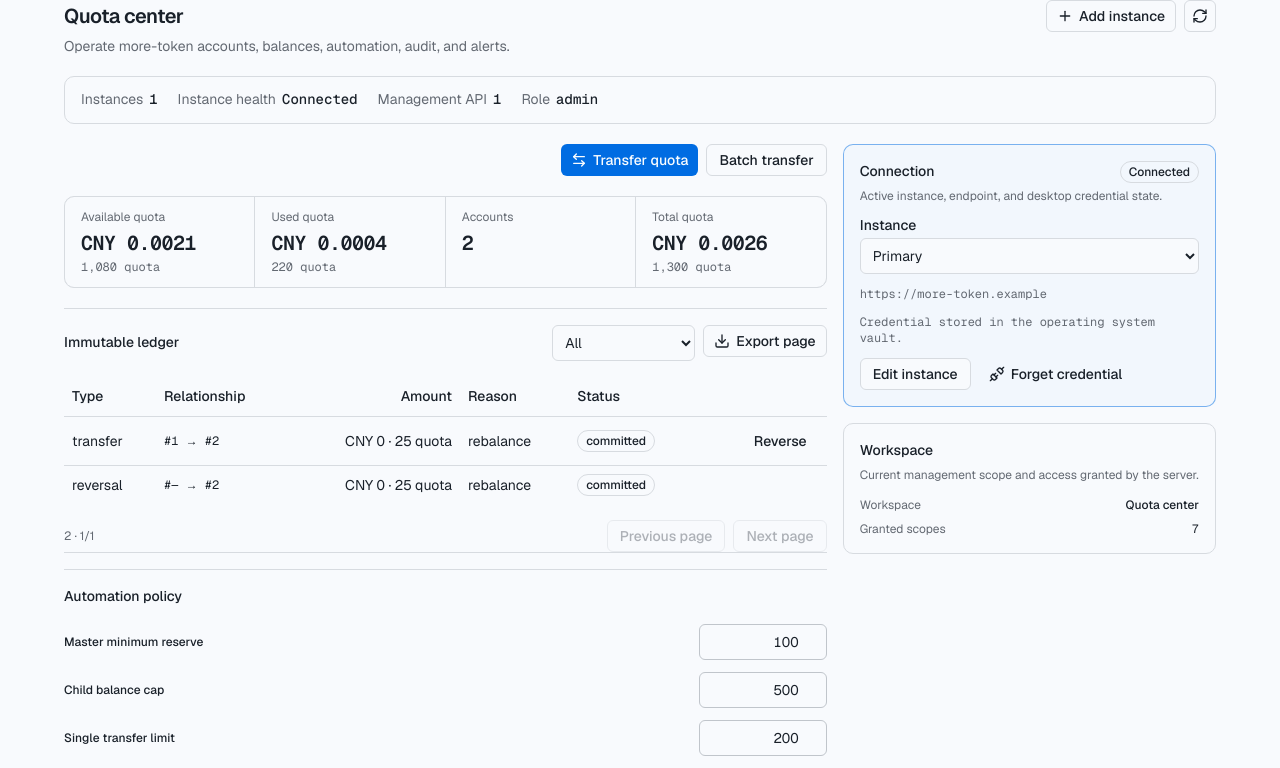
it: ledger reversal › lets the row cancel a waiting approval without reporting a failure
The width and height of the screenshot is (1280, 768).
Check: the heading "Immutable ledger" is shown, box left=64, top=332, right=179, bottom=354
Step 1. Click the button "Reverse" → (780, 441), box left=742, top=425, right=819, bottom=457
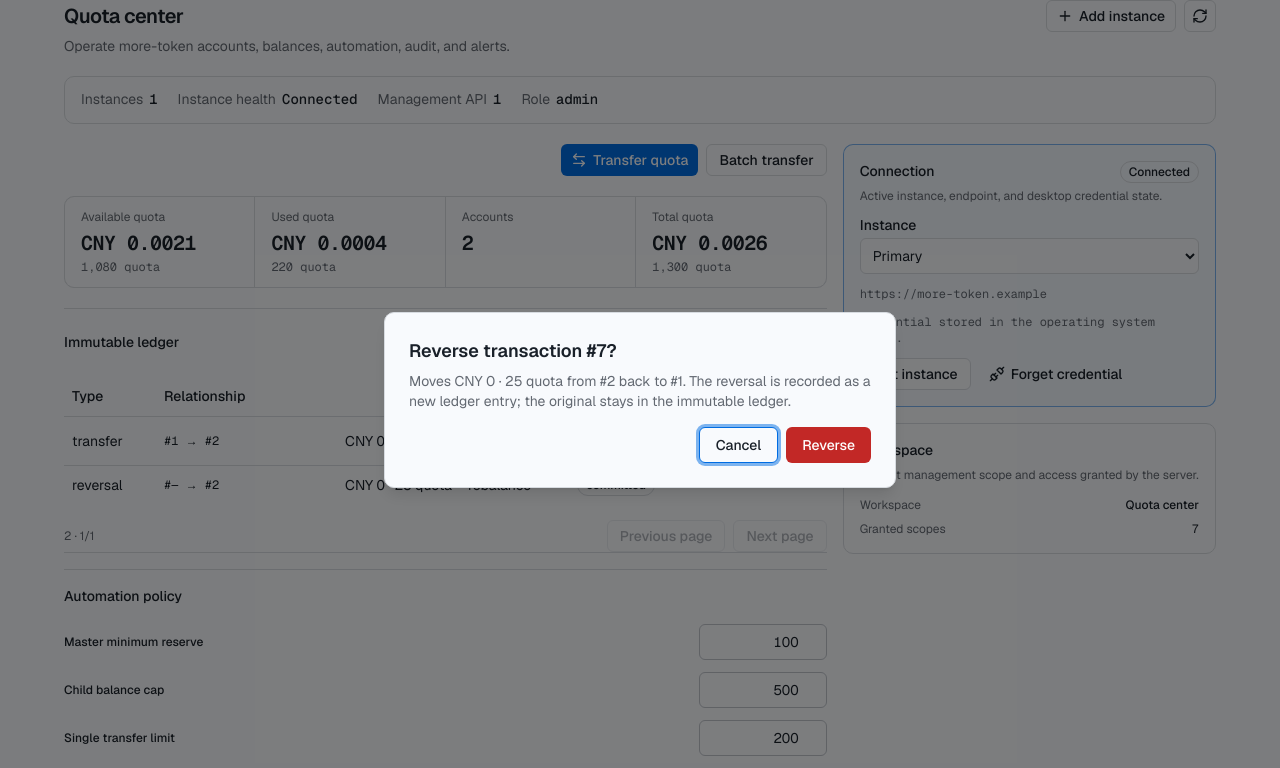
Step 2. Click the button "Reverse" → (829, 445), box left=786, top=427, right=871, bottom=463
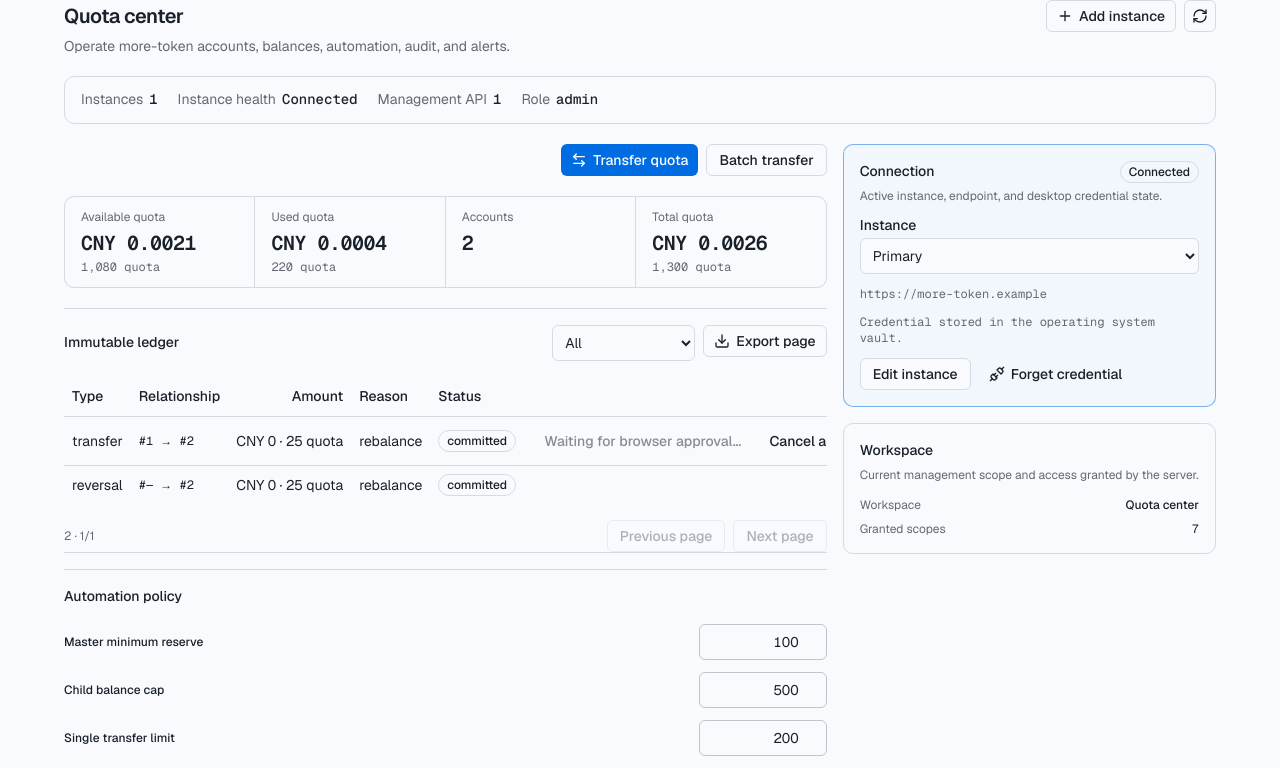
Check: the button "Waiting for browser approval…" is disabled, box left=532, top=425, right=753, bottom=457
Step 3. Click the button "Cancel approval" → (822, 441), box left=757, top=425, right=887, bottom=457
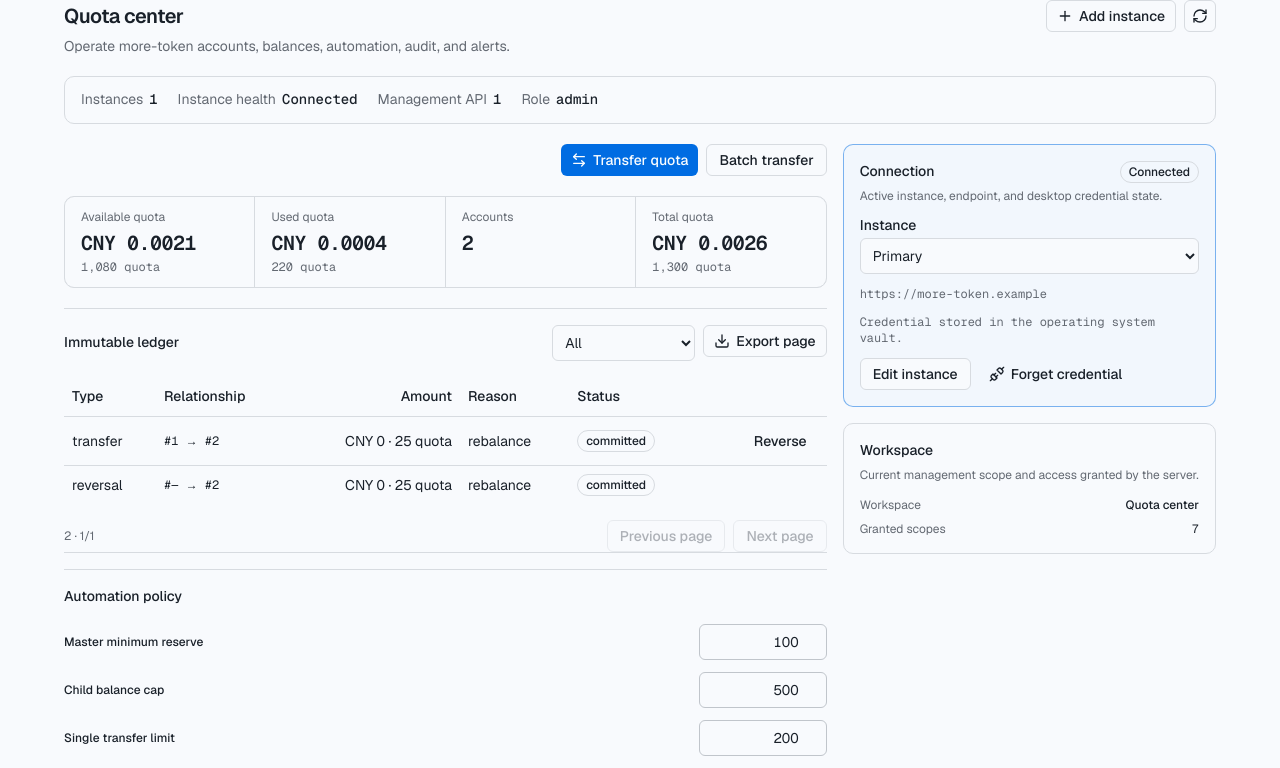
Check: the button "Reverse" is enabled, box left=742, top=425, right=819, bottom=457
